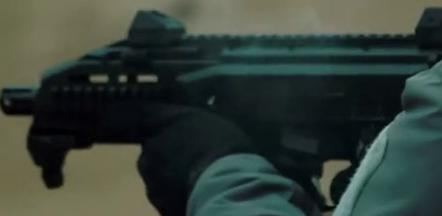gun: (1, 1, 442, 216)
